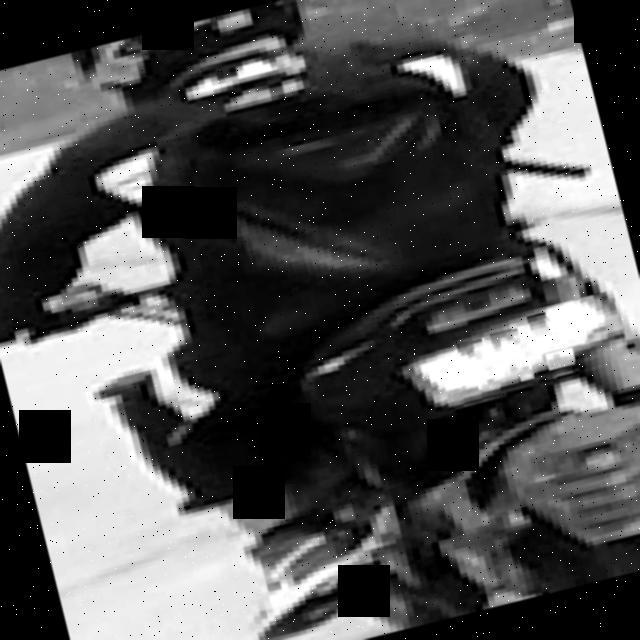letters: (490, 327, 522, 358), (456, 338, 487, 368), (474, 363, 503, 392), (545, 347, 576, 370), (526, 312, 550, 339), (514, 358, 534, 382)
license-plate: (410, 295, 625, 410)
province: (464, 331, 586, 372)
